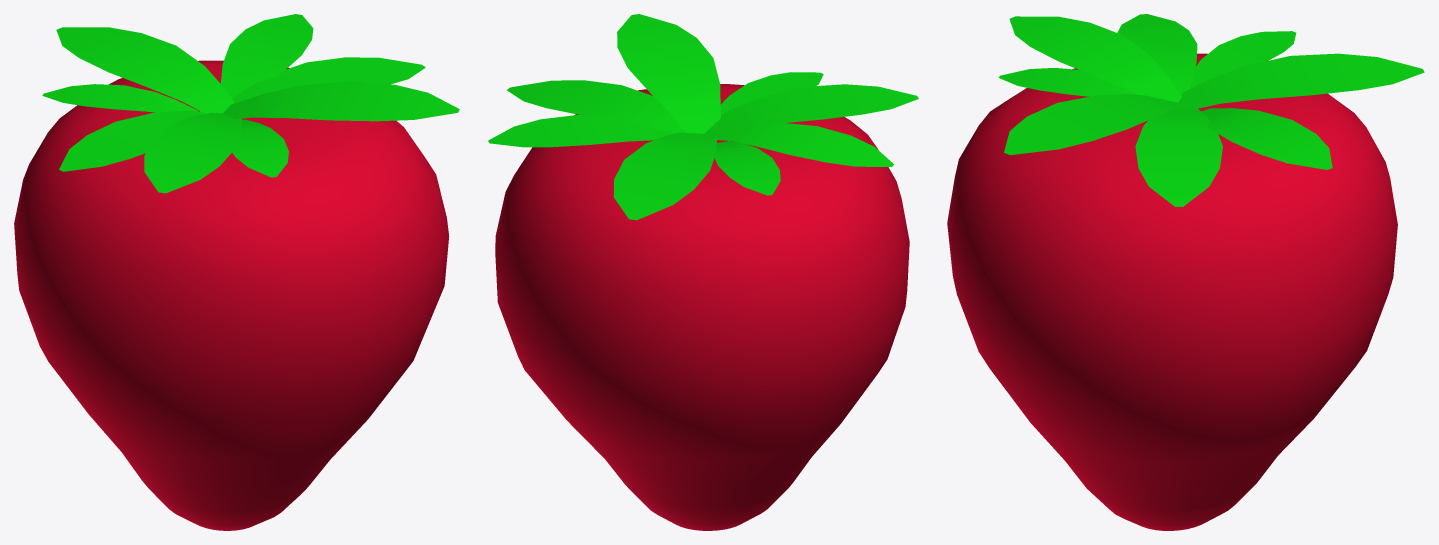
The model's file is strawberry.fbx.
3 renders of one model, left to right at view 1: azimuth 30°, elevation 25°; view 2: azimuth 150°, elevation 25°; view 3: azimuth 270°, elevation 25°, orthographic. The views are drawn at different scales.
Parts seen in each view (by area): view 1: Sphere.002; view 2: Sphere.002; view 3: Sphere.002.
Boxes of the visible parts, left/top/right/bottom form: Sphere.002: left=14, top=14, right=459, bottom=530; Sphere.002: left=488, top=14, right=918, bottom=530; Sphere.002: left=947, top=14, right=1424, bottom=530.
Bounding box in the file's own units: 200 × 216 × 208.
